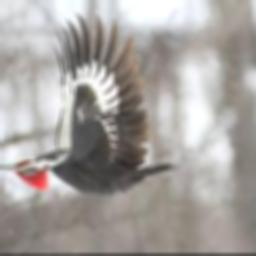Woodpecker: (0, 16, 178, 194)
